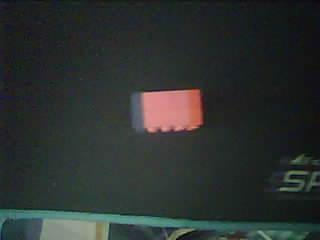lego: (139, 90, 204, 134)
